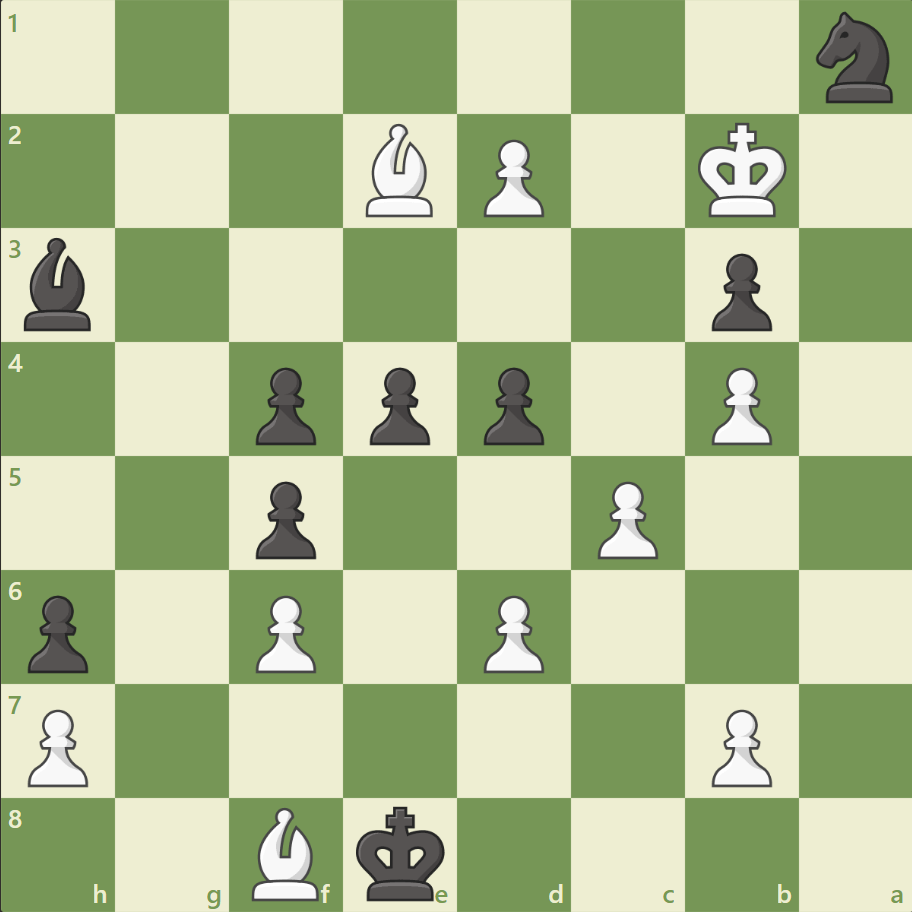B: (244, 801, 328, 904), (358, 120, 442, 222)
K: (692, 117, 792, 225)
P: (701, 700, 776, 791), (20, 700, 95, 791), (474, 586, 549, 677), (247, 586, 322, 677), (701, 359, 776, 450), (474, 132, 549, 223), (588, 473, 662, 564)
b: (17, 233, 101, 336)
k: (351, 798, 451, 906)
n: (806, 7, 903, 110)
p: (20, 586, 95, 677), (247, 473, 322, 564), (474, 359, 549, 450), (247, 359, 322, 450), (701, 246, 776, 337), (361, 359, 435, 450)
